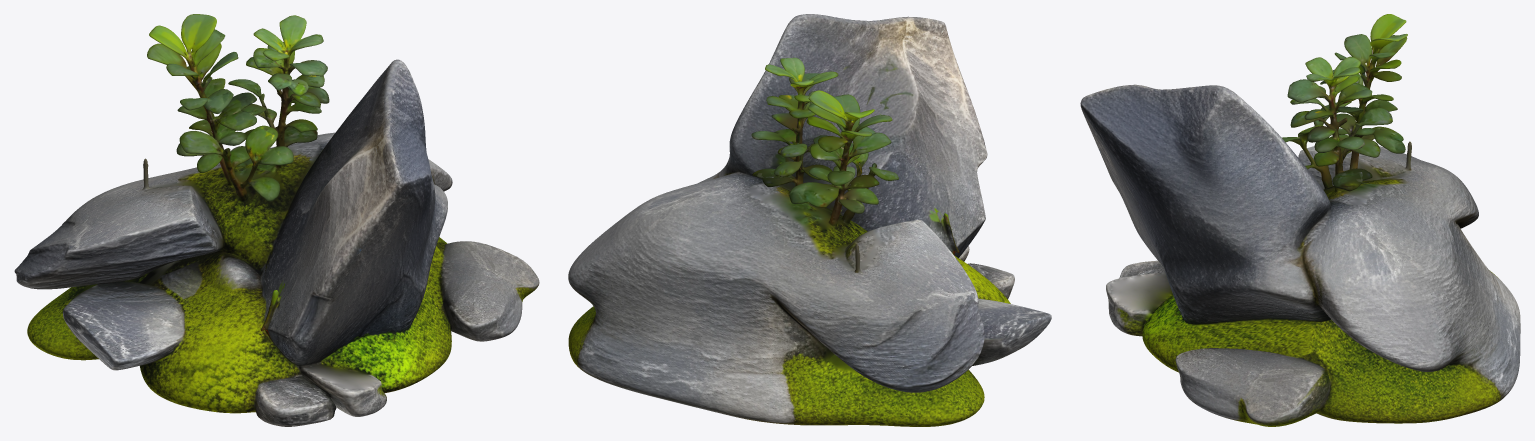
3 renders of one model, left to right at view 1: azimuth 30°, elevation 25°; view 2: azimuth 150°, elevation 25°; view 3: azimuth 270°, elevation 25°, orthographic. The views are drawn at different scales.
Parts seen in each view (by area): view 1: node_0; view 2: node_0; view 3: node_0.
Boxes of the visible parts, x1,y1,x2,y2 form: node_0: (14, 14, 539, 426); node_0: (568, 14, 1051, 426); node_0: (1080, 14, 1520, 426).
Size of the model in its own units: 0.9777 by 0.6272 by 0.8881.
1 material, 1 textured.
